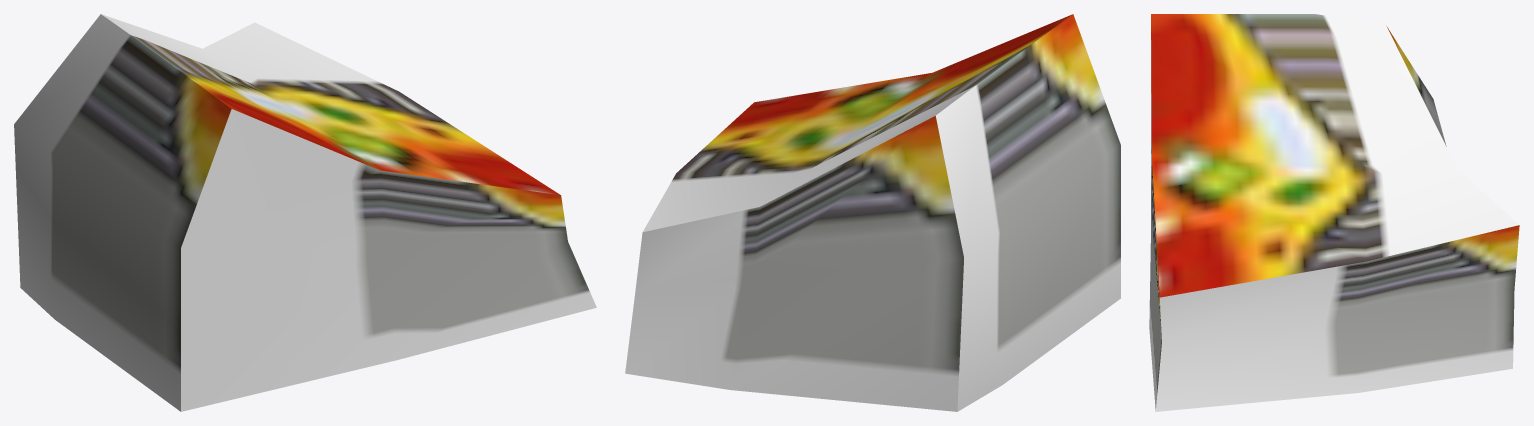
The model's file is Fragments.FBX.
3 views of the same model, side by side, from view 1: azimuth 30°, elevation 25°; view 2: azimuth 150°, elevation 25°; view 3: azimuth 270°, elevation 25° (orthographic). The views are drawn at different scales.
Visible parts, largest first — view 1: Box002; view 2: Box002; view 3: Box002.
Boxes of the visible parts, left/top/right/bottom form: Box002: left=14, top=14, right=596, bottom=411; Box002: left=625, top=14, right=1120, bottom=411; Box002: left=1149, top=14, right=1519, bottom=411.
Size of the model in its own units: 0.0682 by 0.0452 by 0.0617.
